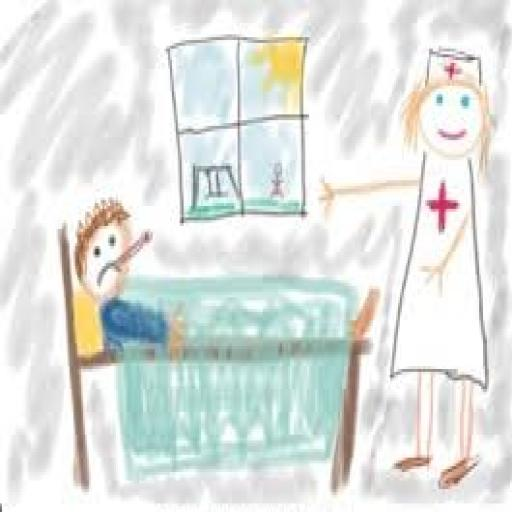person: (309, 31, 512, 501), (62, 187, 211, 378), (266, 150, 296, 222)
